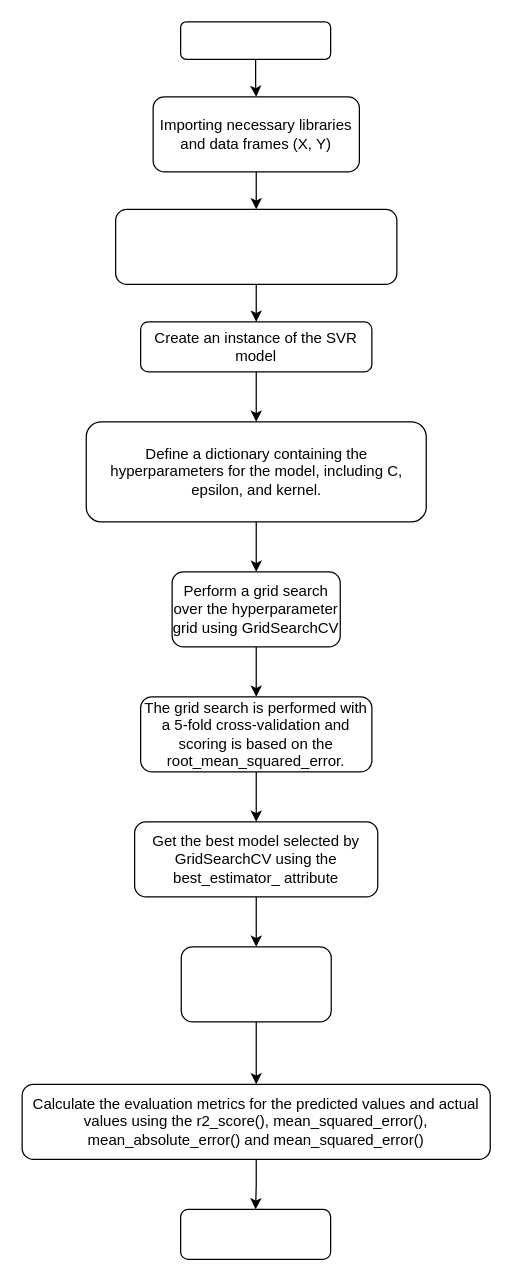
This 513x1281 diagram has some shape labels left out. The shapes that lost their labels are listed below. From the top down, each one's centre as x and y in pixels, then its label:
At (255,40): "Start".
At (255,246): "Reshape the X_train and y_train array to fit with SVR model".
At (255,984): "Make predictions on the test data using the best model".
At (255,1233): "End".
